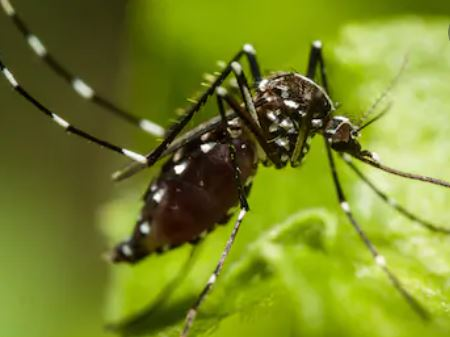dengue_mosquito: (38, 39, 388, 271)
